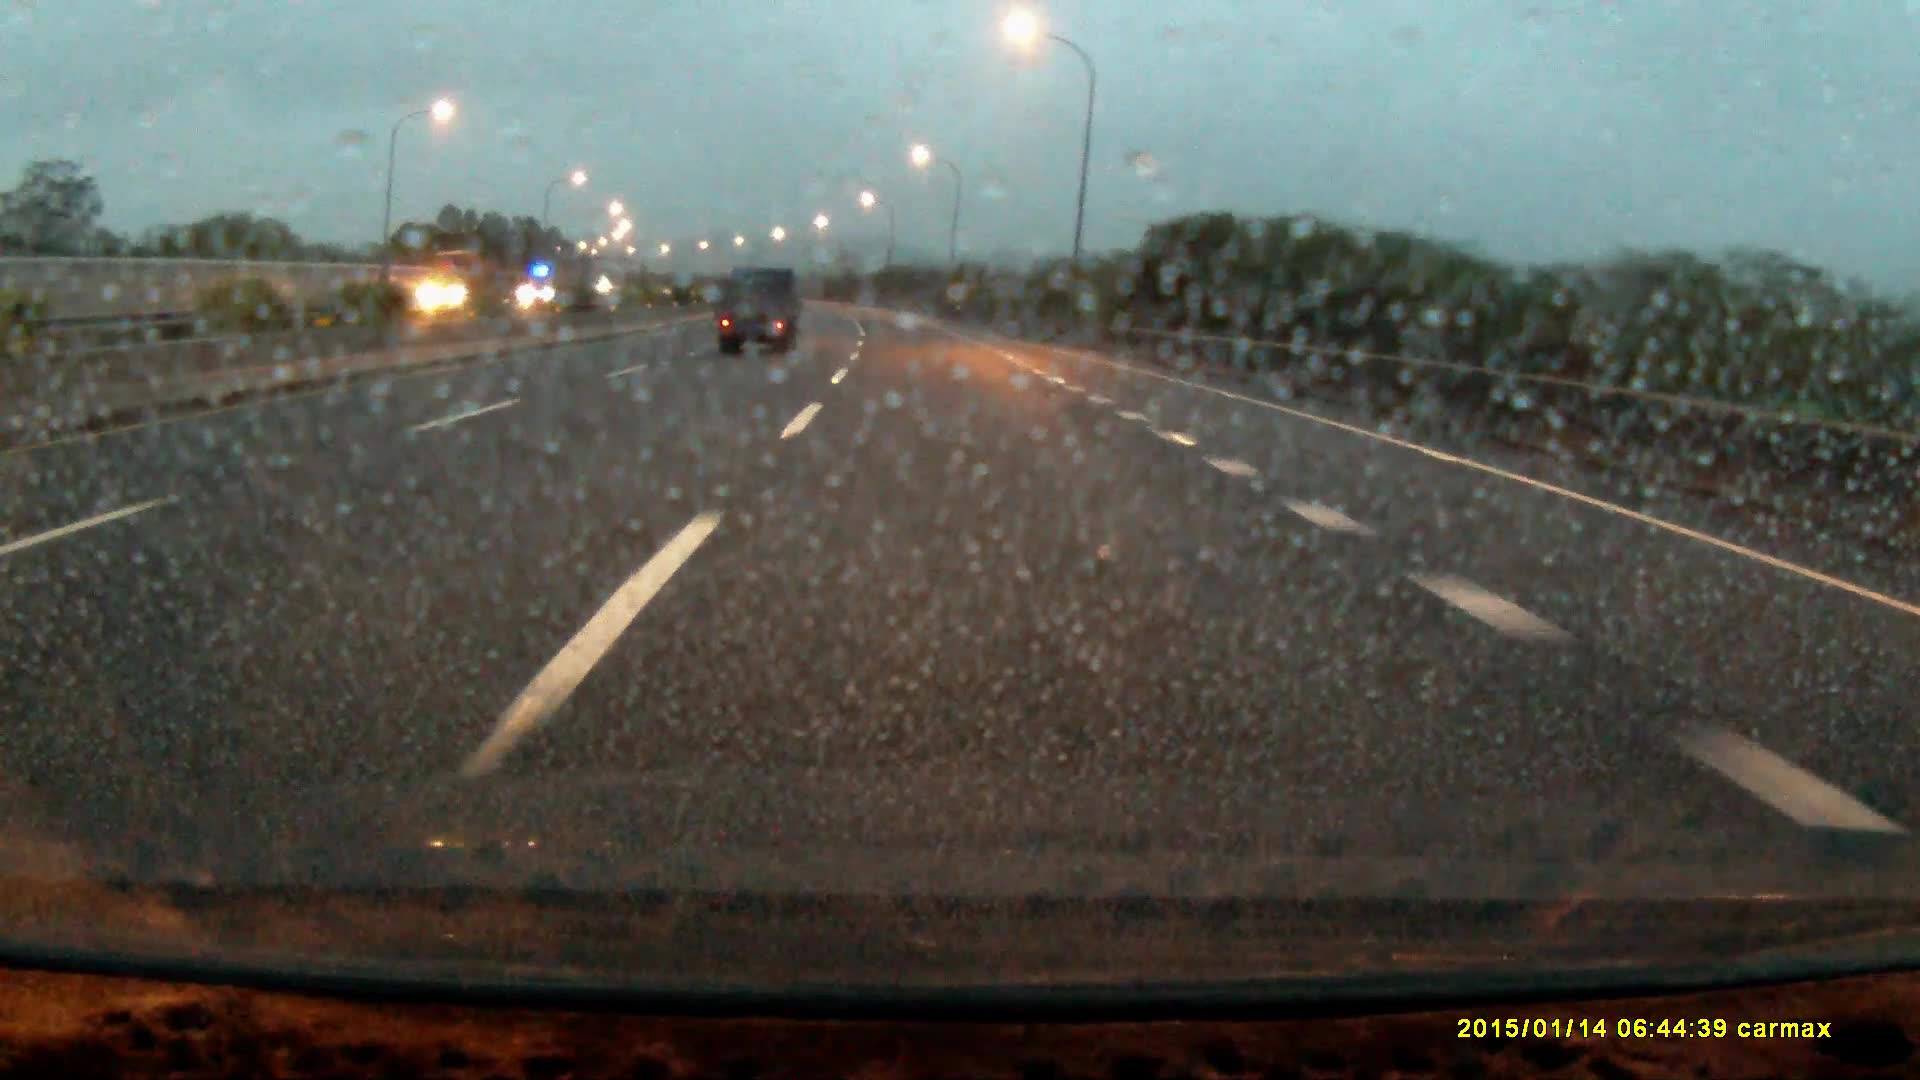vehicle: (720, 266, 799, 360), (423, 251, 512, 316)
